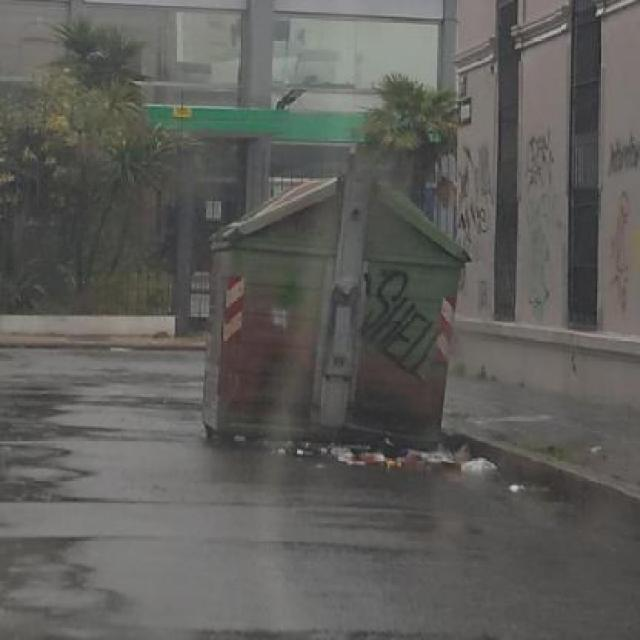garbage: (226, 426, 512, 498)
